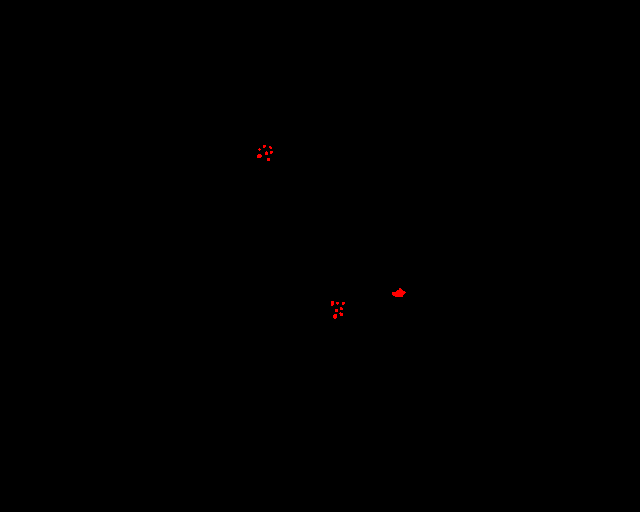Target: (392, 288, 406, 297), (257, 154, 262, 158), (333, 314, 337, 319), (339, 312, 343, 316), (331, 301, 334, 306), (265, 151, 268, 155), (263, 145, 266, 148), (269, 146, 272, 149), (258, 148, 261, 151), (270, 151, 273, 154), (267, 158, 270, 161), (336, 302, 339, 305), (342, 302, 345, 305), (340, 307, 343, 310), (335, 309, 338, 312)
